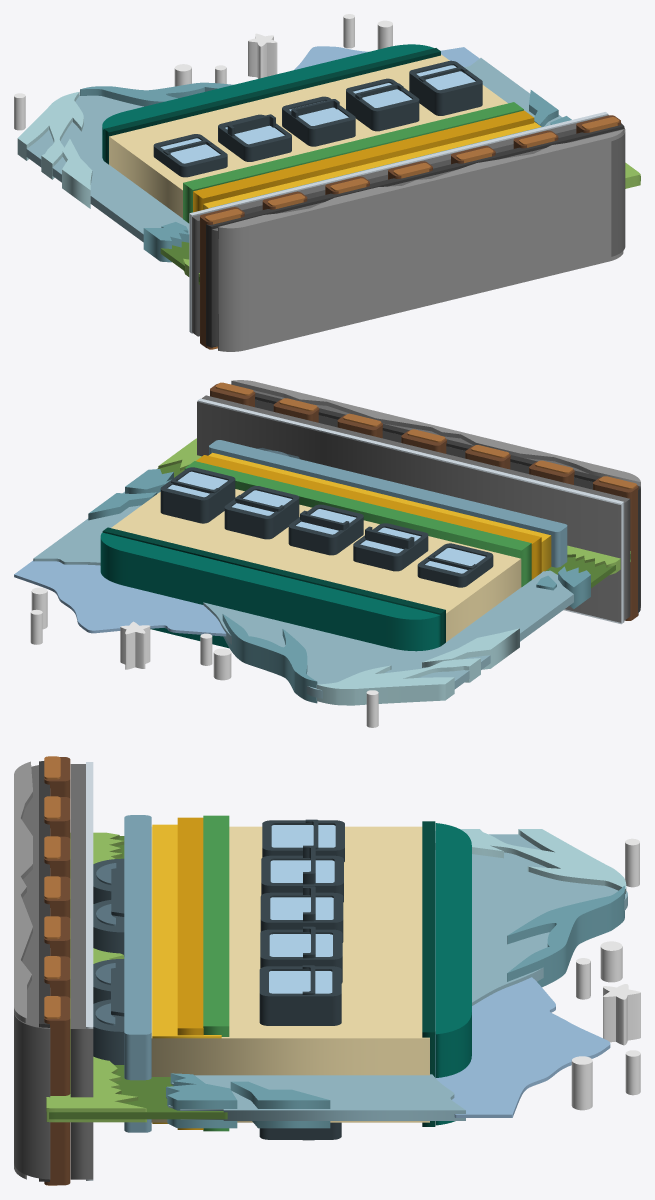
Rendered from emoji_u1f69e.glb.
3 views of the same model, one above another, from view 1: azimuth 30°, elevation 25°; view 2: azimuth 150°, elevation 25°; view 3: azimuth 270°, elevation 25° (orthographic). The views are drawn at different scales.
Visible parts, largest first — view 1: emoji_u1f69e; view 2: emoji_u1f69e; view 3: emoji_u1f69e.
Boxes of the visible parts, <box> form: emoji_u1f69e: <box>14,14,640,351</box>; emoji_u1f69e: <box>14,380,640,727</box>; emoji_u1f69e: <box>14,756,640,1185</box>.
Size of the model in its own units: 0.0339 by 0.0096 by 0.0324.
